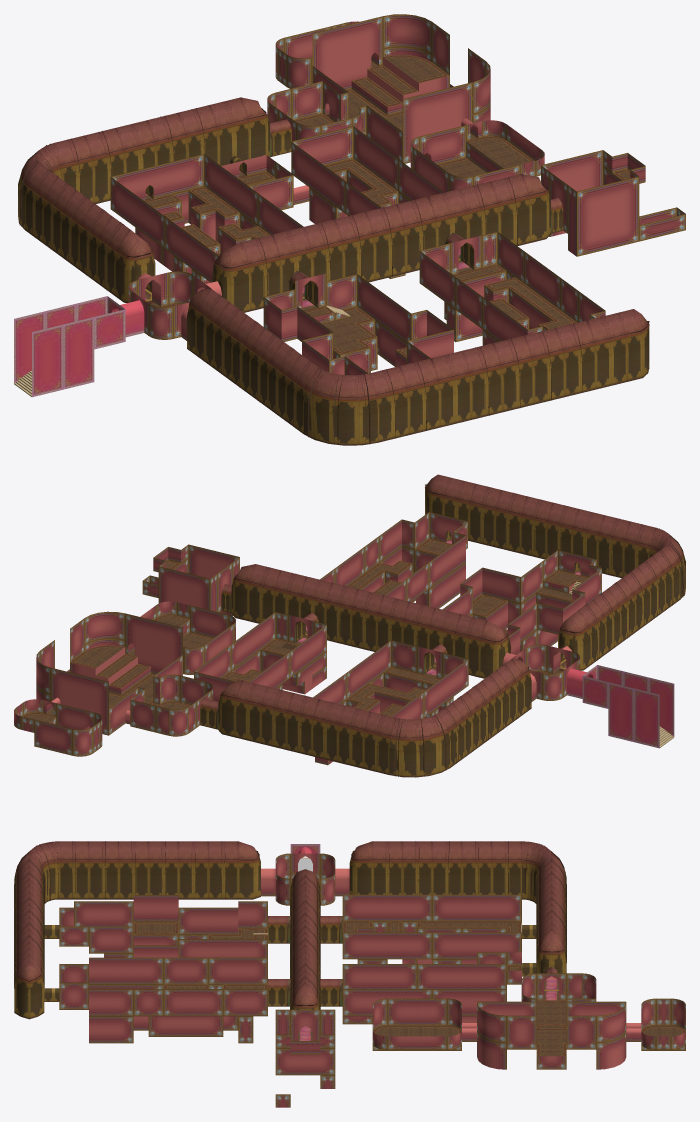
File: AtticRoom_Mesh.fbx
3 views of the same model, one above another, from view 1: azimuth 30°, elevation 25°; view 2: azimuth 150°, elevation 25°; view 3: azimuth 270°, elevation 25° (orthographic). The views are drawn at different scales.
Visible parts, largest first — view 1: Cor_Wall_Right, Cor_Wall_Left, Cor_Wall_Mid, room29_wall01, room25_wall01, room27_wall01, room26_wall01, room28_wall01, room12_5_wall02, room23_wall01, room31_wall01, room22_wall01 (+8 smaller); view 2: Cor_Wall_Right, Cor_Wall_Left, Cor_Wall_Mid, room29_wall01, room27_wall01, room26_wall01, room23_wall01, room25_wall01, room12_5_wall02, room28_wall01, room30_wall01, room31_wall01 (+7 smaller); view 3: Cor_Wall_Right, room26_wall01, Cor_Wall_Left, room25_wall01, room27_wall01, room29_wall01, room23_wall01, Cor_Wall_Mid, room28_wall01, room31_wall01, room22_wall01, room30_wall01 (+5 smaller).
Boxes of the visible parts, box(x1,y1,x2,y2) form: Cor_Wall_Right: box(187, 289, 649, 445); Cor_Wall_Left: box(18, 97, 291, 302); Cor_Wall_Mid: box(212, 173, 563, 312); room29_wall01: box(267, 14, 490, 163); room25_wall01: box(110, 154, 303, 283); room27_wall01: box(263, 273, 453, 375); room26_wall01: box(419, 231, 605, 345); room28_wall01: box(541, 150, 685, 256); room12_5_wall02: box(14, 296, 144, 397); room23_wall01: box(291, 126, 443, 278); room31_wall01: box(410, 118, 544, 192); room22_wall01: box(128, 271, 221, 340); Cor_Wall_Right: box(425, 474, 685, 670); Cor_Wall_Left: box(200, 659, 531, 777); Cor_Wall_Mid: box(221, 564, 510, 678); room29_wall01: box(36, 611, 213, 736); room27_wall01: box(442, 550, 601, 654); room26_wall01: box(320, 511, 467, 608); room23_wall01: box(194, 612, 326, 701); room25_wall01: box(313, 640, 468, 765); room12_5_wall02: box(567, 665, 674, 748); room28_wall01: box(142, 544, 239, 615); room30_wall01: box(14, 697, 102, 756); room31_wall01: box(128, 601, 235, 674); Cor_Wall_Right: box(14, 841, 260, 1019); room26_wall01: box(59, 957, 267, 1043); Cor_Wall_Left: box(349, 841, 566, 976); room25_wall01: box(342, 894, 521, 970); room27_wall01: box(59, 895, 267, 957); room29_wall01: box(477, 973, 626, 1069); room23_wall01: box(342, 964, 506, 1024); Cor_Wall_Mid: box(268, 869, 342, 1032); room28_wall01: box(275, 1009, 335, 1107); room31_wall01: box(372, 998, 476, 1050); room22_wall01: box(261, 853, 349, 905); room30_wall01: box(626, 998, 685, 1050).
Bounding box in the file's own units: 166 × 26 × 180.
